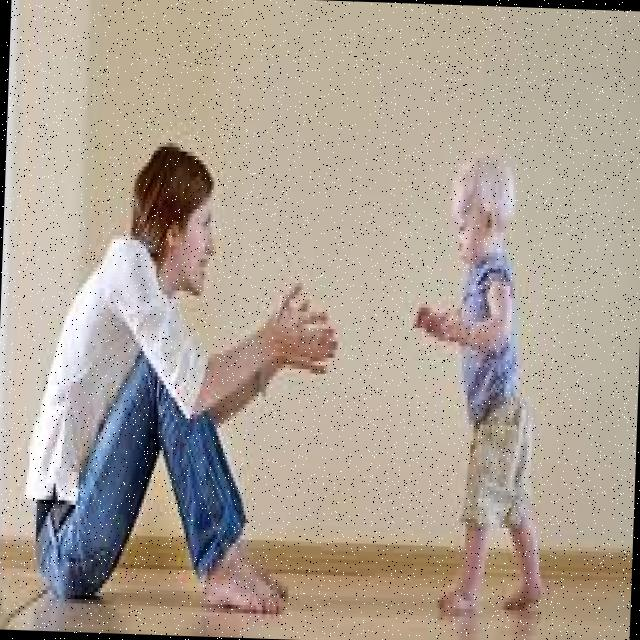Person: (20, 141, 341, 608), (405, 153, 556, 616)
